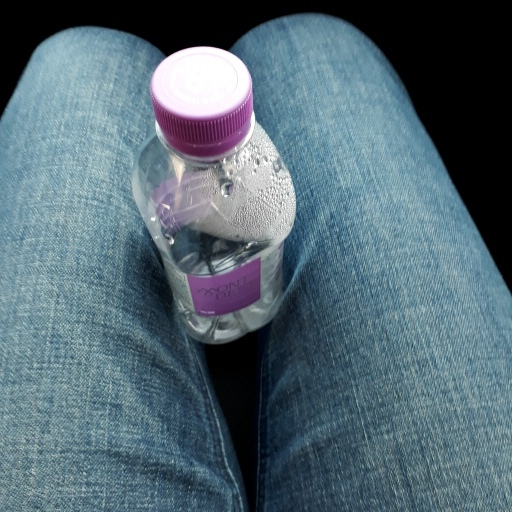Plastic_0: (128, 45, 299, 341)
